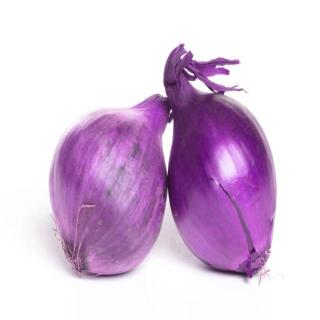Bawang Merah: (162, 42, 281, 282), (46, 91, 172, 279)
